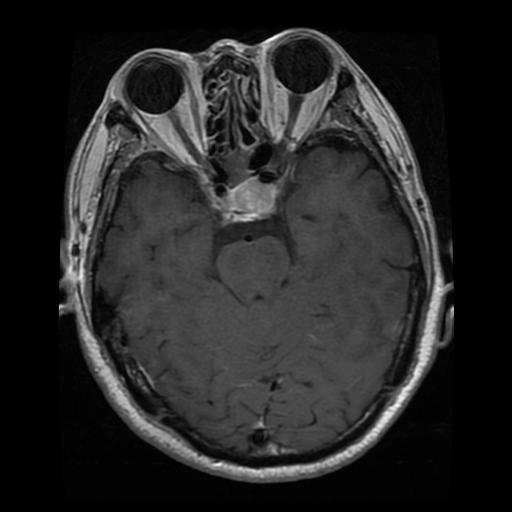Tumour-Pituitary: (205, 168, 302, 229)
